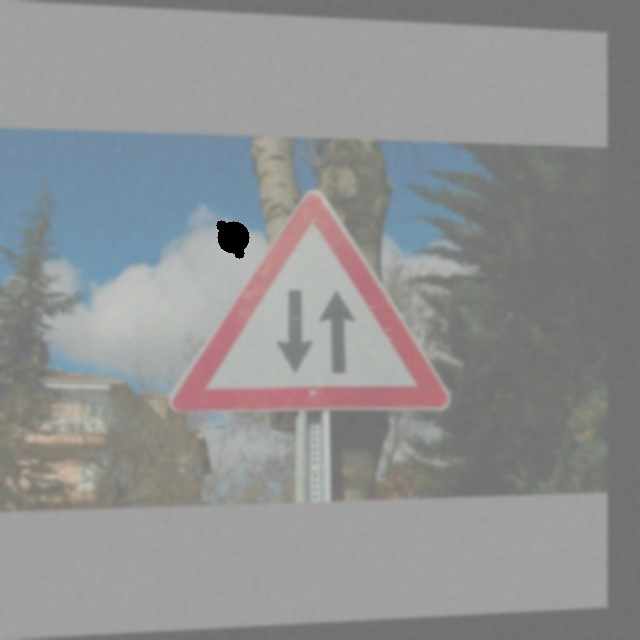Mandatory_Two_Way_Traffic: (170, 187, 451, 419)
